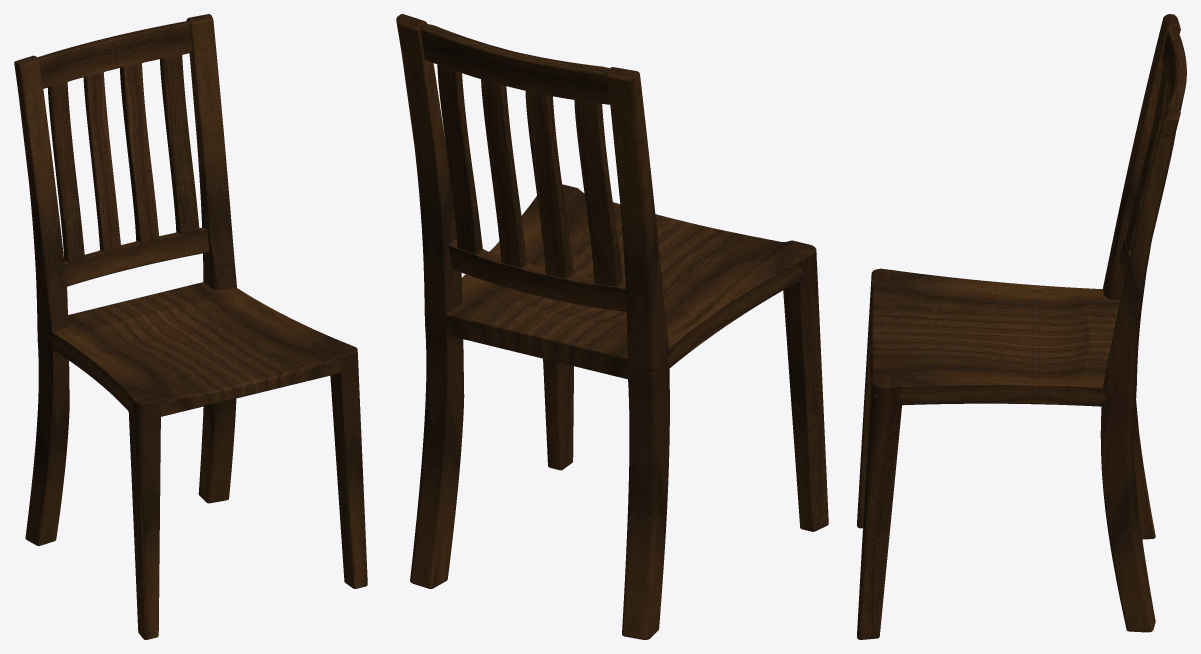
Rendered from traditional-straight.glb.
3 views of the same model, side by side, from view 1: azimuth 30°, elevation 25°; view 2: azimuth 150°, elevation 25°; view 3: azimuth 270°, elevation 25° (orthographic). The views are drawn at different scales.
Visible parts, largest first — view 1: Simple Dining Chair, Simple Dining Chair.005, Simple Dining Chair.009, Simple Dining Chair.001, Simple Dining Chair.010, Simple Dining Chair.003, Simple Dining Chair.007, Simple Dining Chair.008, Simple Dining Chair.006, Simple Dining Chair.002, Simple Dining Chair.004; view 2: Simple Dining Chair, Simple Dining Chair.005, Simple Dining Chair.009, Simple Dining Chair.001, Simple Dining Chair.003, Simple Dining Chair.002, Simple Dining Chair.006, Simple Dining Chair.004, Simple Dining Chair.008, Simple Dining Chair.007, Simple Dining Chair.010; view 3: Simple Dining Chair, Simple Dining Chair.009, Simple Dining Chair.010, Simple Dining Chair.005, Simple Dining Chair.002, Simple Dining Chair.001, Simple Dining Chair.003.
Part boxes in pixels (<box>): Simple Dining Chair: <box>50,282,343,416</box>; Simple Dining Chair.005: <box>14,55,69,545</box>; Simple Dining Chair.009: <box>186,14,236,503</box>; Simple Dining Chair.001: <box>128,391,160,639</box>; Simple Dining Chair.010: <box>329,341,367,588</box>; Simple Dining Chair.003: <box>37,21,192,88</box>; Simple Dining Chair.007: <box>160,55,199,233</box>; Simple Dining Chair.008: <box>120,63,159,242</box>; Simple Dining Chair.006: <box>83,72,120,251</box>; Simple Dining Chair.002: <box>48,82,84,261</box>; Simple Dining Chair.004: <box>64,227,208,286</box>; Simple Dining Chair: <box>443,187,802,379</box>; Simple Dining Chair.005: <box>607,67,669,639</box>; Simple Dining Chair.009: <box>396,14,464,588</box>; Simple Dining Chair.001: <box>781,241,828,531</box>; Simple Dining Chair.003: <box>420,23,609,104</box>; Simple Dining Chair.002: <box>574,100,622,286</box>; Simple Dining Chair.006: <box>525,91,573,278</box>; Simple Dining Chair.004: <box>448,240,626,311</box>; Simple Dining Chair.008: <box>481,79,526,268</box>; Simple Dining Chair.007: <box>437,64,482,254</box>; Simple Dining Chair.010: <box>536,184,573,470</box>; Simple Dining Chair: <box>870,271,1136,406</box>; Simple Dining Chair.009: <box>1100,106,1180,632</box>; Simple Dining Chair.010: <box>857,375,903,639</box>; Simple Dining Chair.005: <box>1103,14,1180,539</box>; Simple Dining Chair.002: <box>1125,66,1168,251</box>; Simple Dining Chair.001: <box>857,268,903,528</box>; Simple Dining Chair.003: <box>1162,28,1186,111</box>.
Size of the model in its own units: 0.4717 by 0.9469 by 0.5492.
Materials: 1 (1 with a texture image).
